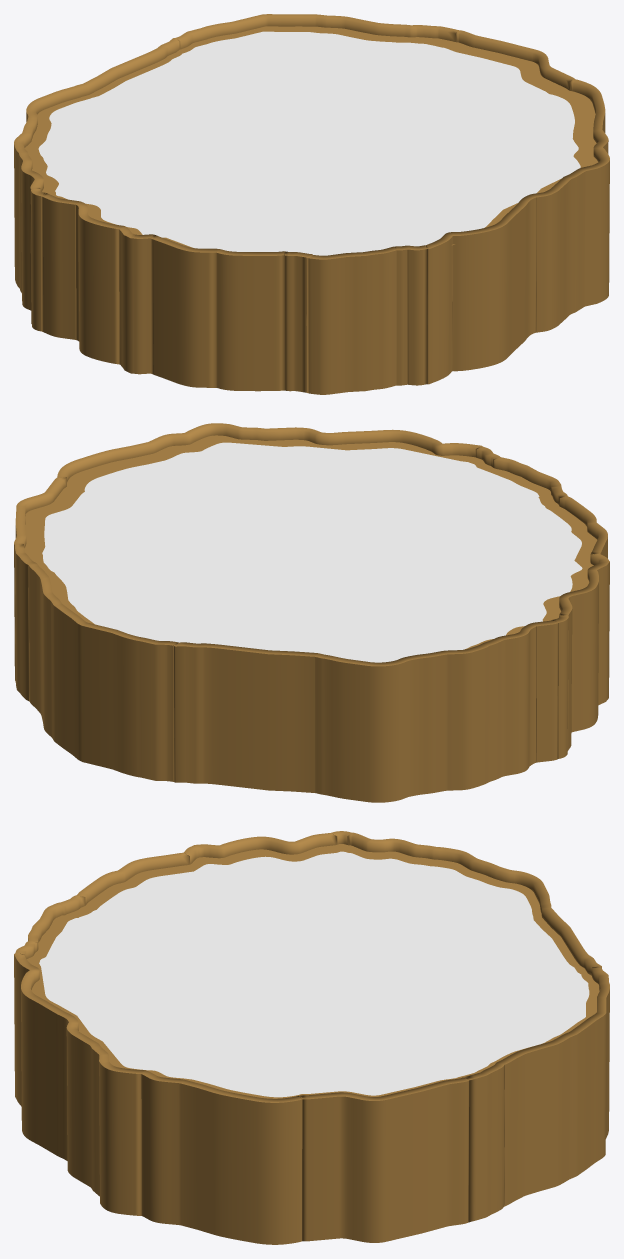
Rendered from wood.fbx.
3 renders of one model, top to bottom at view 1: azimuth 30°, elevation 25°; view 2: azimuth 150°, elevation 25°; view 3: azimuth 270°, elevation 25°, orthographic. The views are drawn at different scales.
Visible parts, largest first — view 1: bark, cap; view 2: bark, cap; view 3: bark, cap.
Boxes of the visible parts, x1,y1,x2,y2 form: bark: (14,14,609,394); cap: (38,31,580,255); bark: (14,423,609,802); cap: (42,442,582,662); bark: (14,831,609,1244); cap: (39,851,589,1097).
Size of the model in its own units: 1505 by 367 by 1394.
